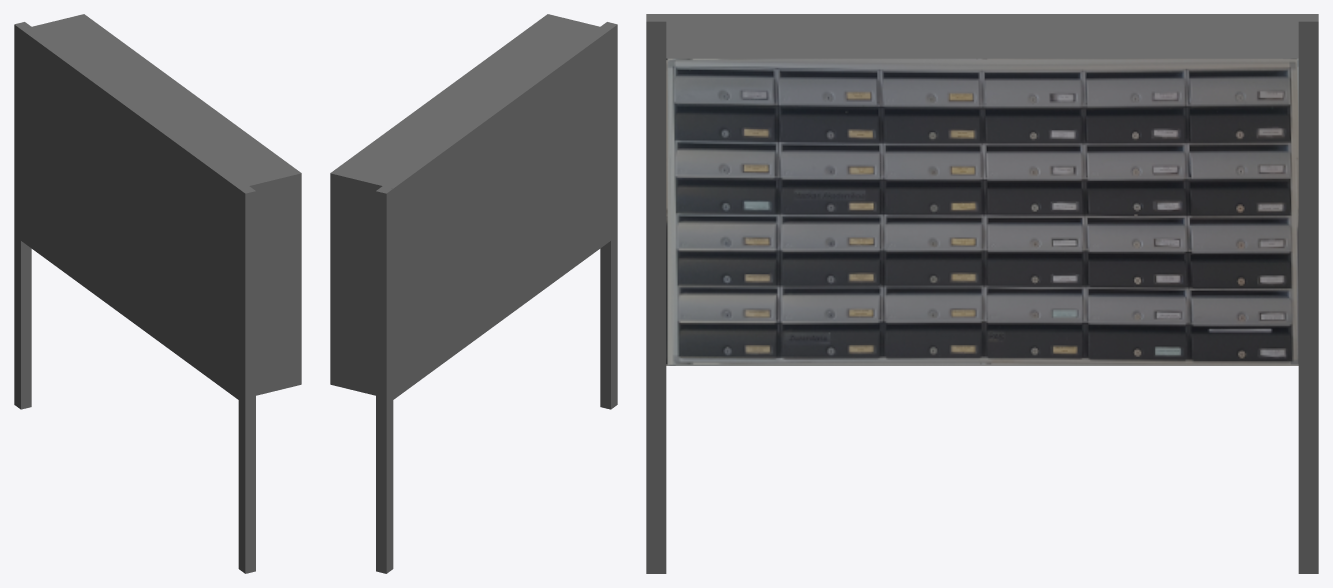
The model's file is mailbox.dae.
The picture shows the model from 3 angles, left to right: view 1: azimuth 30°, elevation 25°; view 2: azimuth 150°, elevation 25°; view 3: azimuth 270°, elevation 25°; orthographic projection. The views are drawn at different scales.
Visible parts, largest first — view 1: Mailbox; view 2: Mailbox; view 3: Mailbox.
Boxes of the visible parts, x1=… form: Mailbox: x1=14, y1=14, x2=301, y2=573; Mailbox: x1=330, y1=14, x2=617, y2=573; Mailbox: x1=646, y1=14, x2=1318, y2=573.
Size of the model in its own units: 0.3678 by 2.33 by 2.12.
